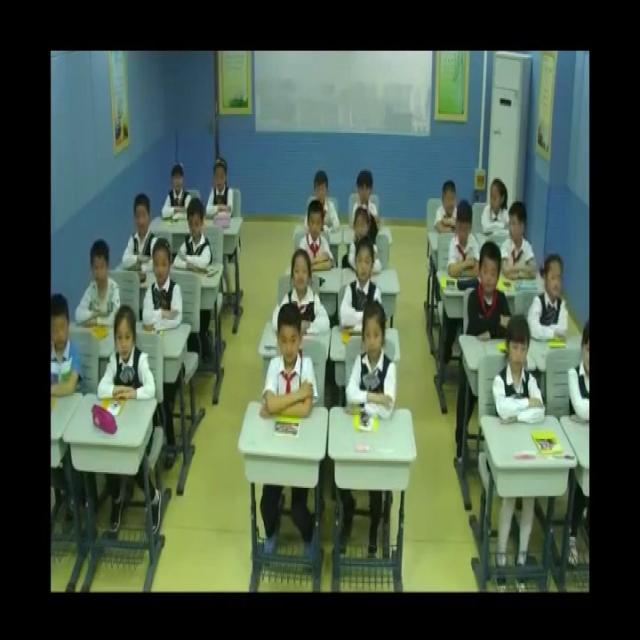distracted: (502, 198, 539, 288), (480, 172, 510, 235)
focused: (264, 306, 317, 424), (344, 300, 396, 420), (97, 306, 156, 411), (496, 319, 545, 426), (467, 241, 515, 344), (74, 240, 125, 334), (343, 237, 390, 336), (281, 251, 331, 338), (530, 250, 572, 346), (51, 292, 88, 399), (120, 193, 163, 278), (144, 233, 182, 328), (175, 195, 214, 276), (301, 194, 340, 270), (348, 203, 383, 279), (450, 203, 482, 283), (310, 170, 343, 240), (351, 166, 384, 232), (208, 158, 238, 224), (160, 166, 195, 222), (435, 175, 462, 232)
